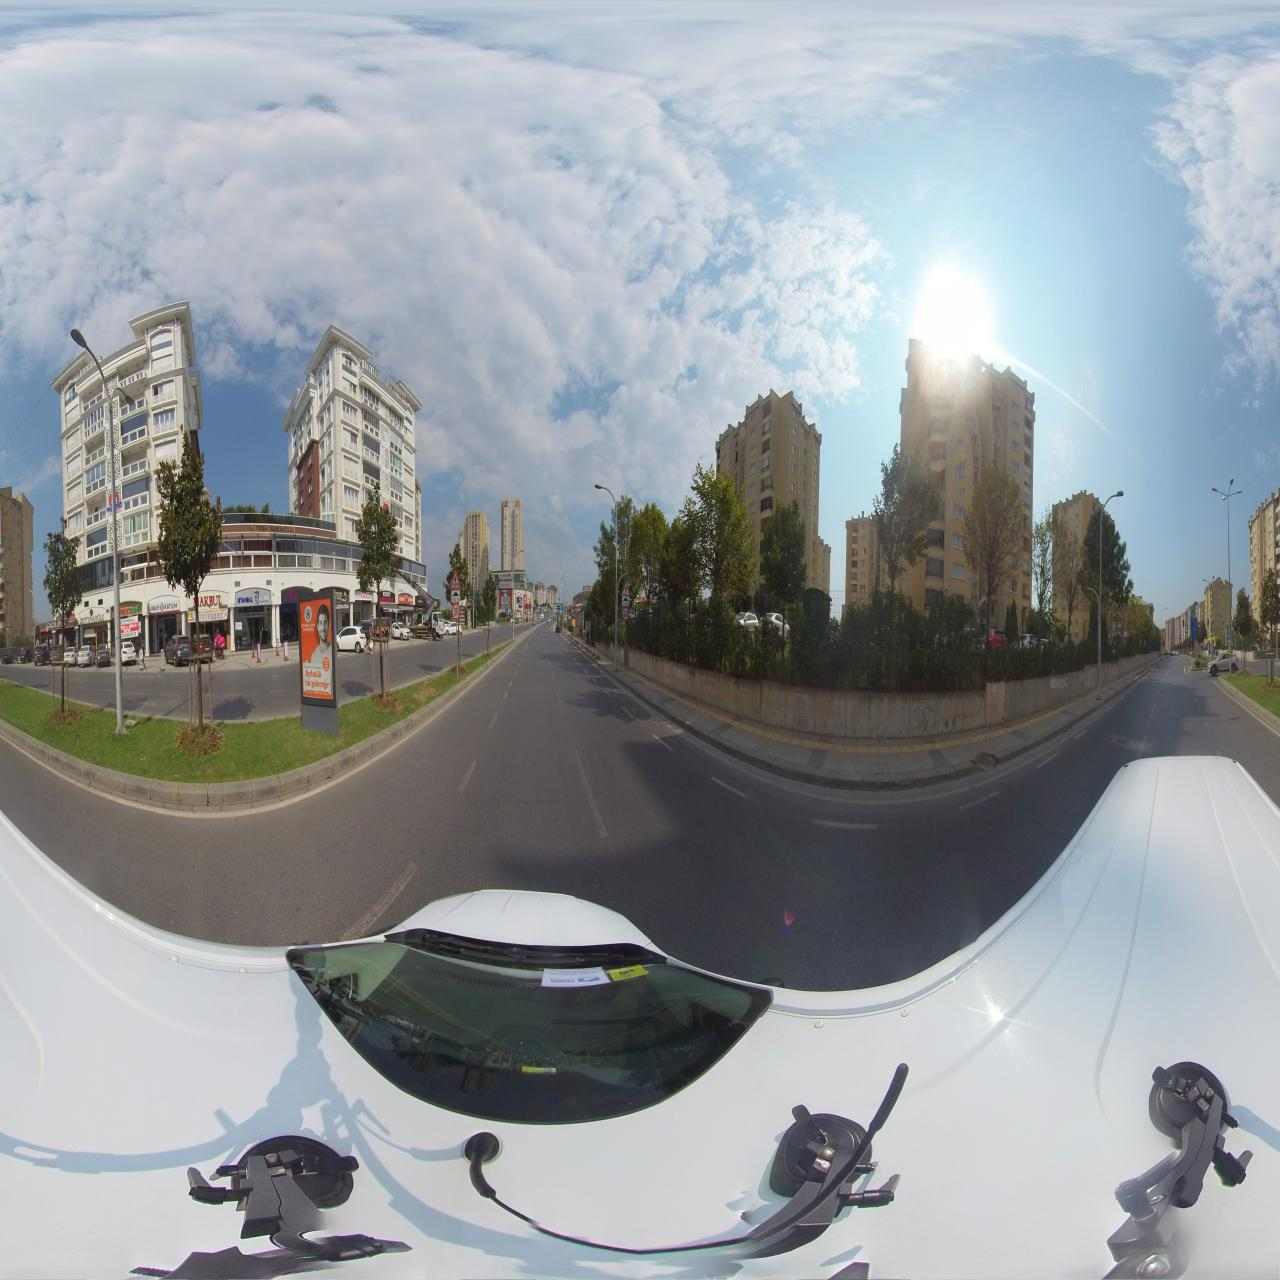SignStore: (236, 588, 271, 606), (198, 591, 229, 610), (150, 599, 179, 614), (79, 607, 105, 624), (120, 601, 143, 617), (281, 586, 298, 604), (43, 619, 62, 632), (335, 588, 349, 601), (380, 591, 395, 602), (399, 593, 413, 605)
